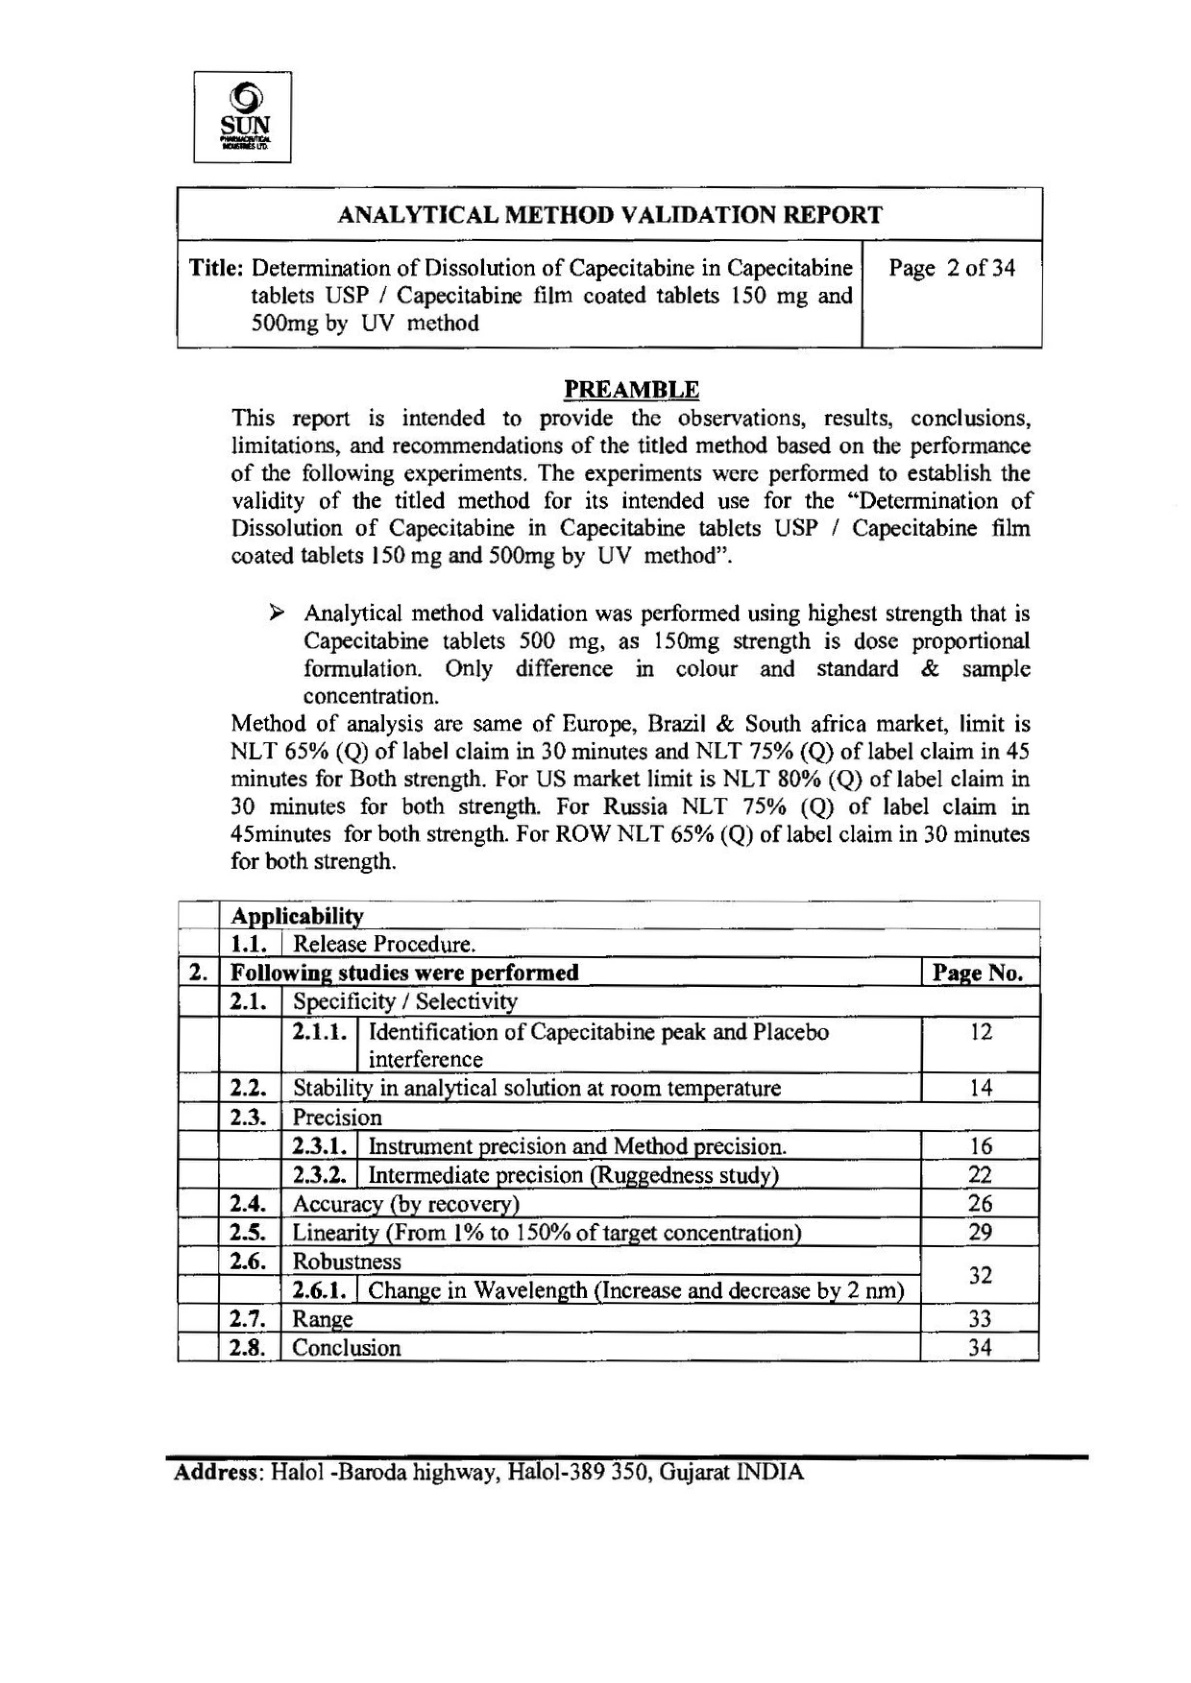merged_cells: (177, 898, 1041, 1363), (174, 184, 1045, 351)
